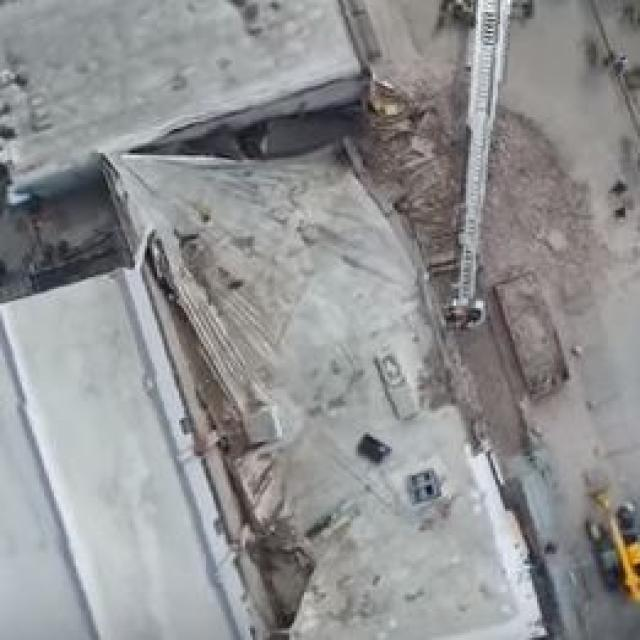collapsed_building: (135, 160, 525, 638)
